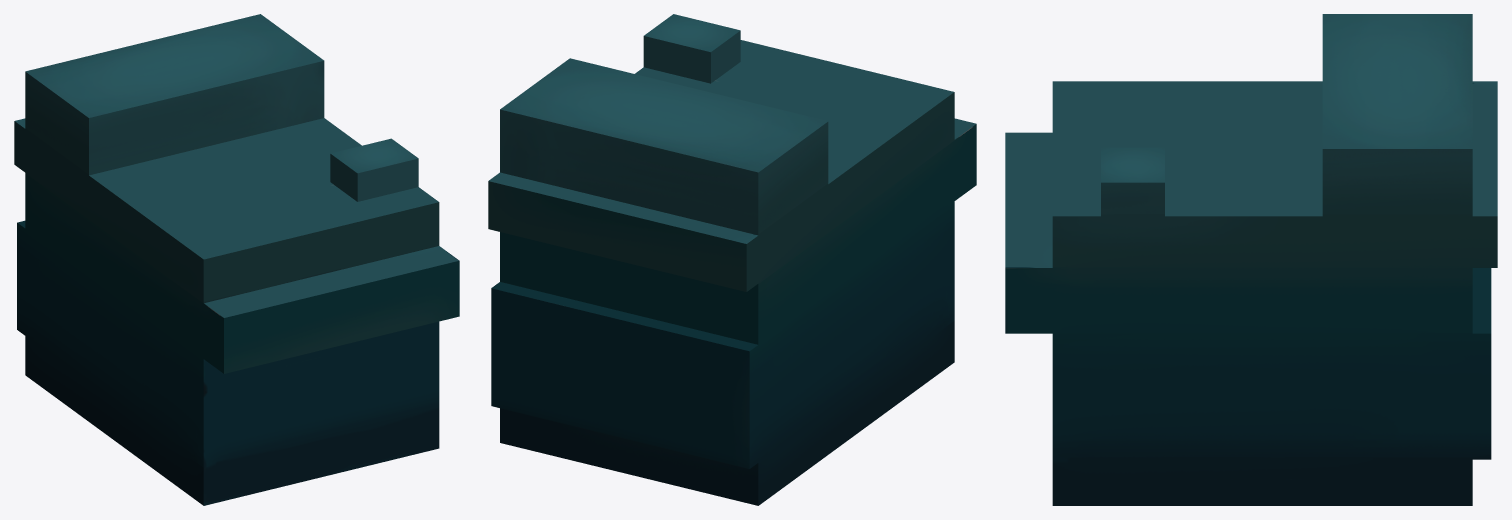
Rendered from Arbusto 2.obj.
3 renders of one model, left to right at view 1: azimuth 30°, elevation 25°; view 2: azimuth 150°, elevation 25°; view 3: azimuth 270°, elevation 25°, orthographic. The views are drawn at different scales.
Visible parts, largest first — view 1: Arbusto 2; view 2: Arbusto 2; view 3: Arbusto 2.
Part boxes in pixels (bbox=[...]): Arbusto 2: bbox=[14, 14, 459, 505]; Arbusto 2: bbox=[488, 14, 976, 505]; Arbusto 2: bbox=[1005, 14, 1497, 505].
Bounding box in the file's own units: 0.2916 × 0.3594 × 0.4494.
Materials: 1 (1 with a texture image).
